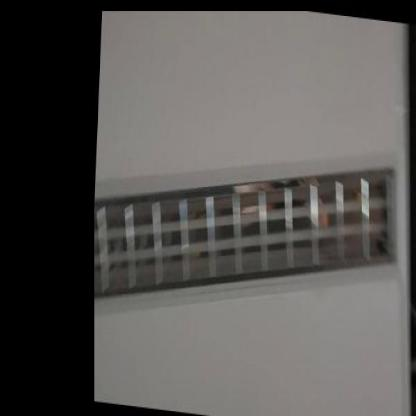light_off: (93, 110, 410, 354)
